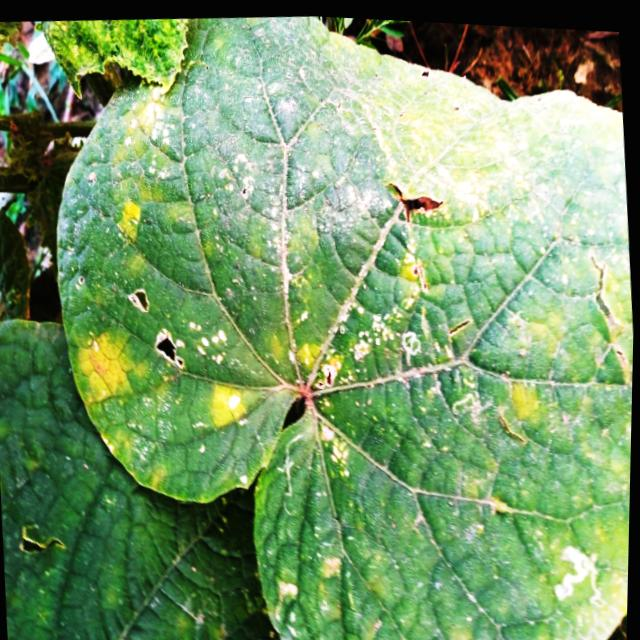Downy-Mildew: (56, 13, 634, 640)
